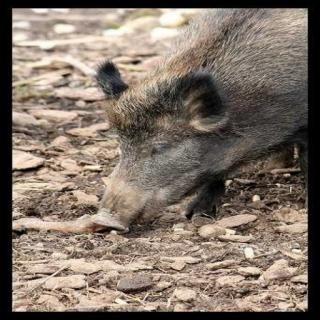Pig: (110, 10, 320, 252)
